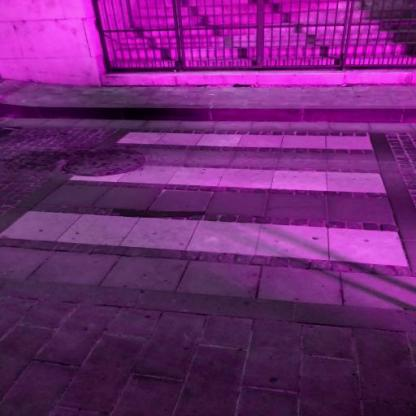crosswalk: (61, 124, 397, 202)
